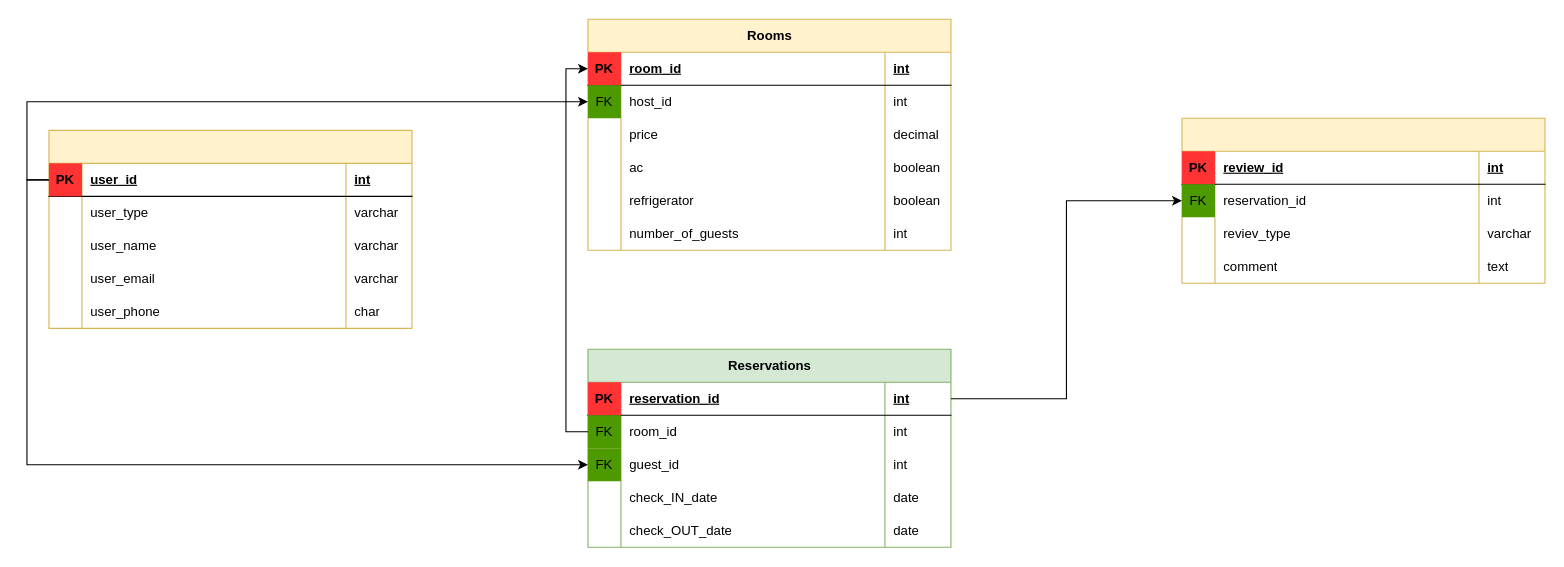
The diagram is 1564 pixels wide and 567 high, and some of its shapes have lost their labels. Each missing label, with the box of its shape:
Reviews: (1181, 117, 1545, 283)
Users: (48, 129, 412, 328)
